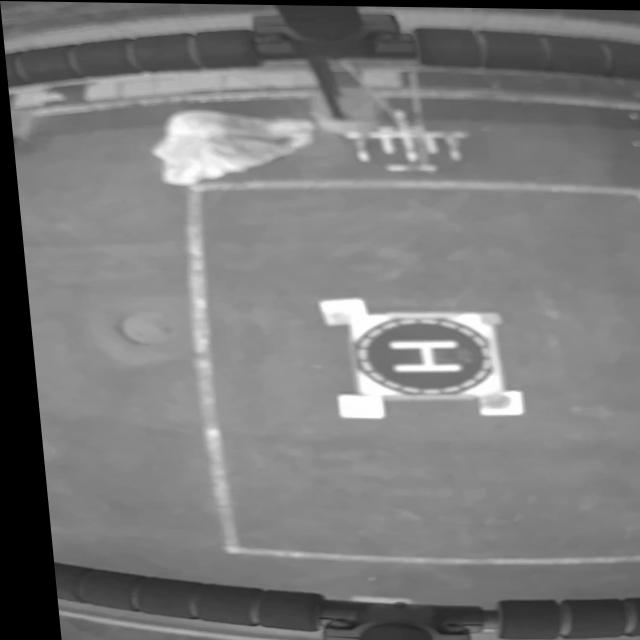Helipad: (384, 337, 456, 369)
